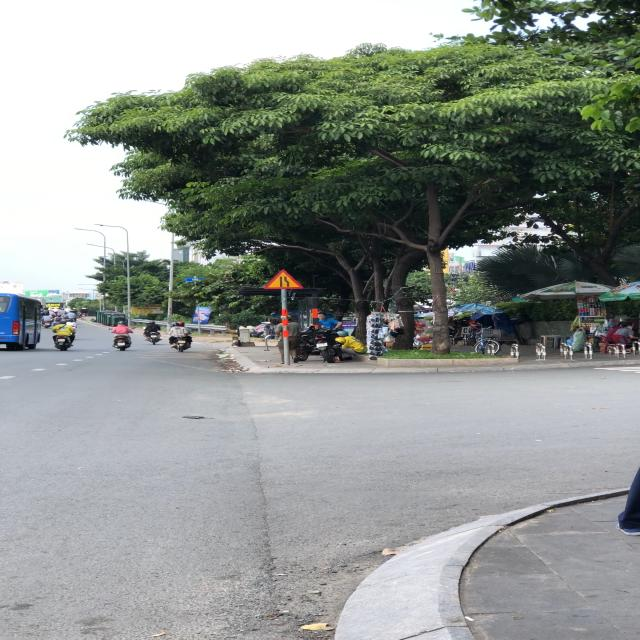Bien bao duong bi thu hep: (259, 269, 306, 289)
